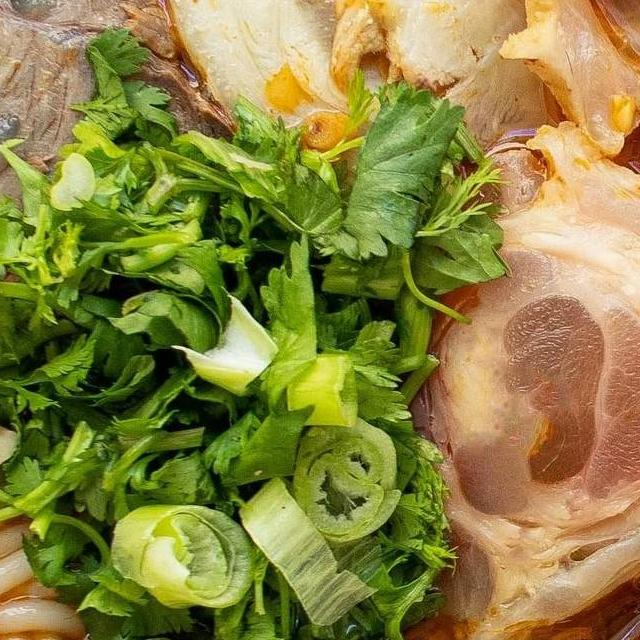bun: (0, 446, 303, 640)
bun bo: (0, 0, 640, 640)
thit bo: (0, 0, 230, 256)
